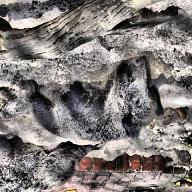boar: (18, 45, 178, 155)
